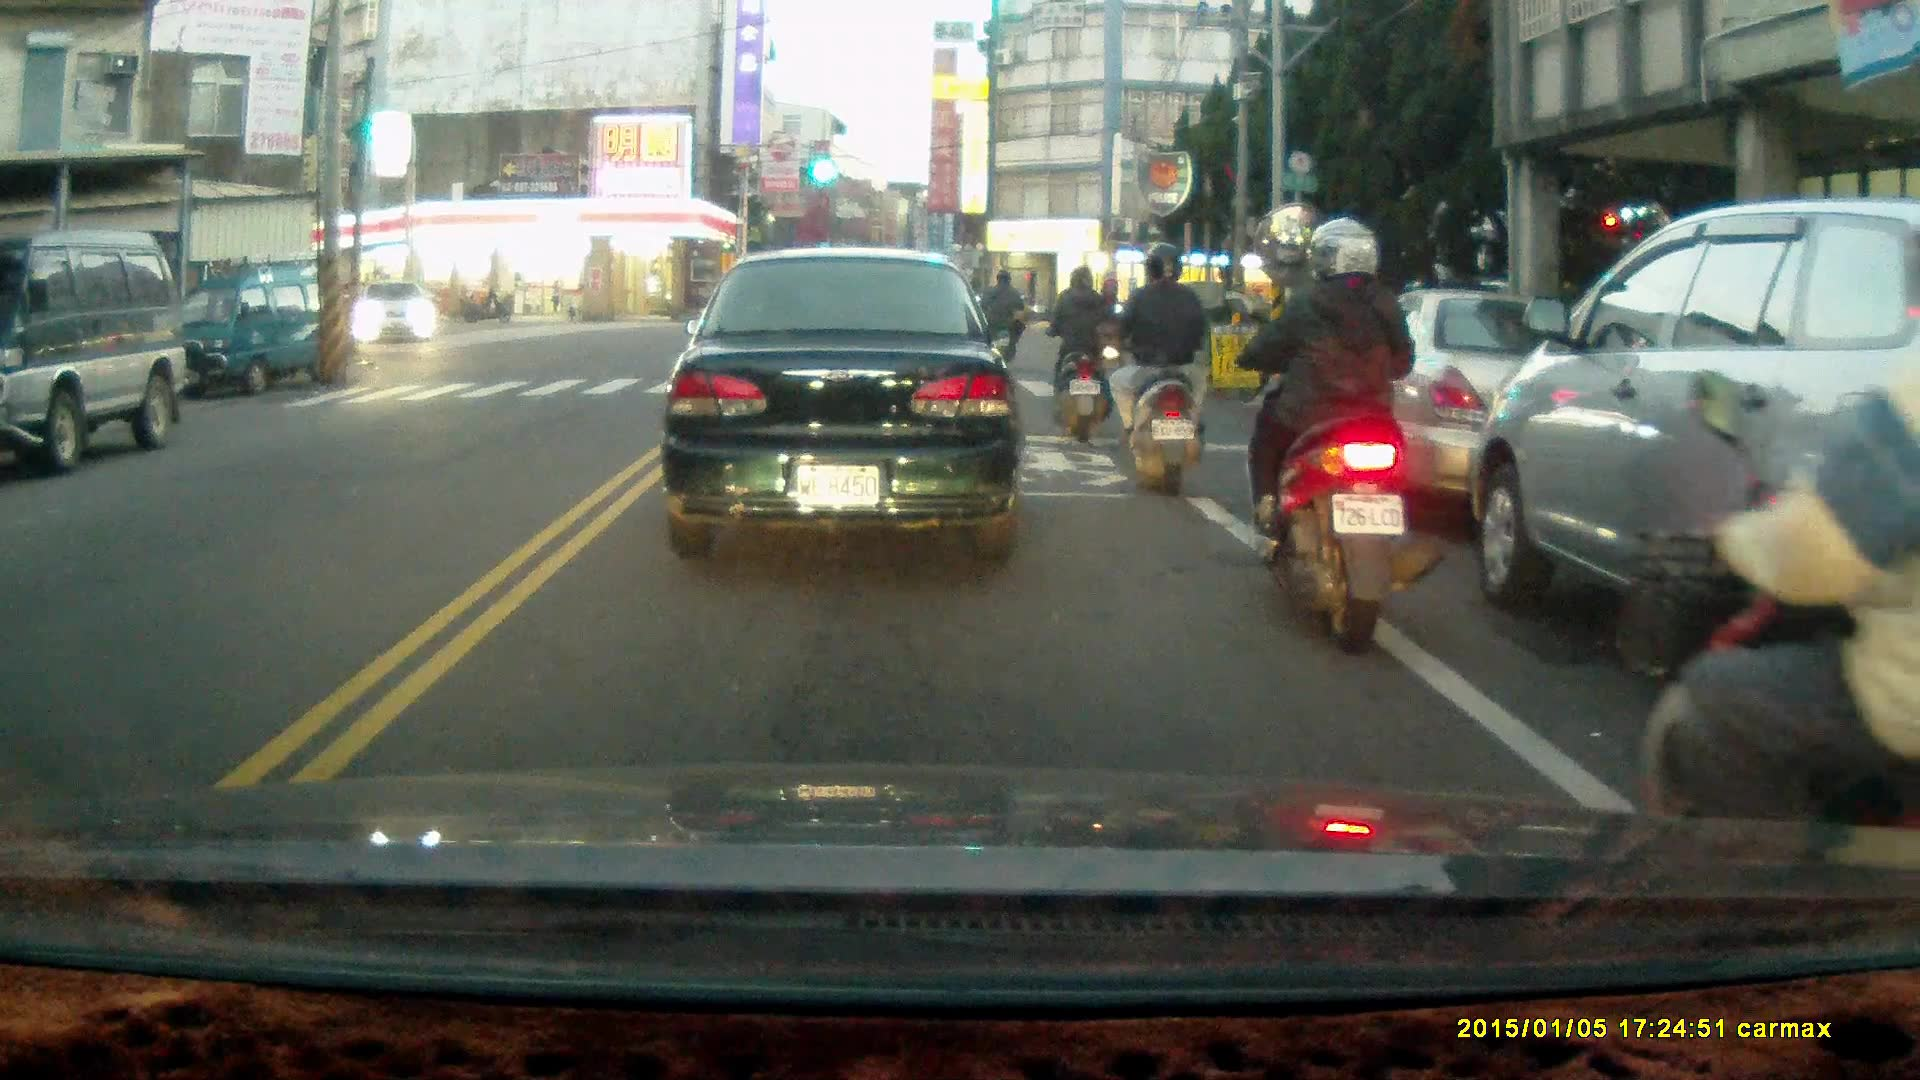rider: (1619, 286, 1920, 863), (1232, 214, 1446, 659), (1088, 246, 1211, 501), (1031, 263, 1115, 438), (982, 269, 1026, 367)
vehicle: (1464, 195, 1920, 792), (663, 247, 1026, 563), (1302, 288, 1659, 519), (1, 234, 181, 467), (162, 263, 348, 403), (358, 281, 441, 348)
